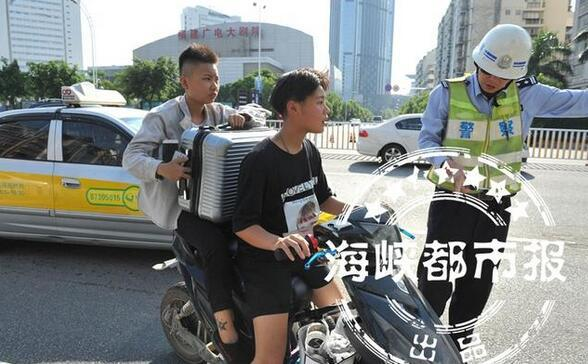two_wheeler: (122, 36, 469, 360)
without_helmet: (272, 69, 337, 137), (175, 45, 224, 105)
